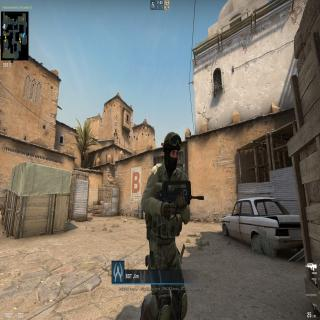CT-Head: (162, 129, 182, 176)
